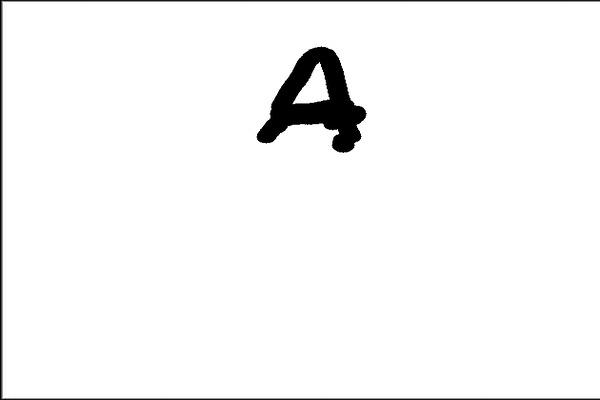A: (248, 32, 369, 166)
